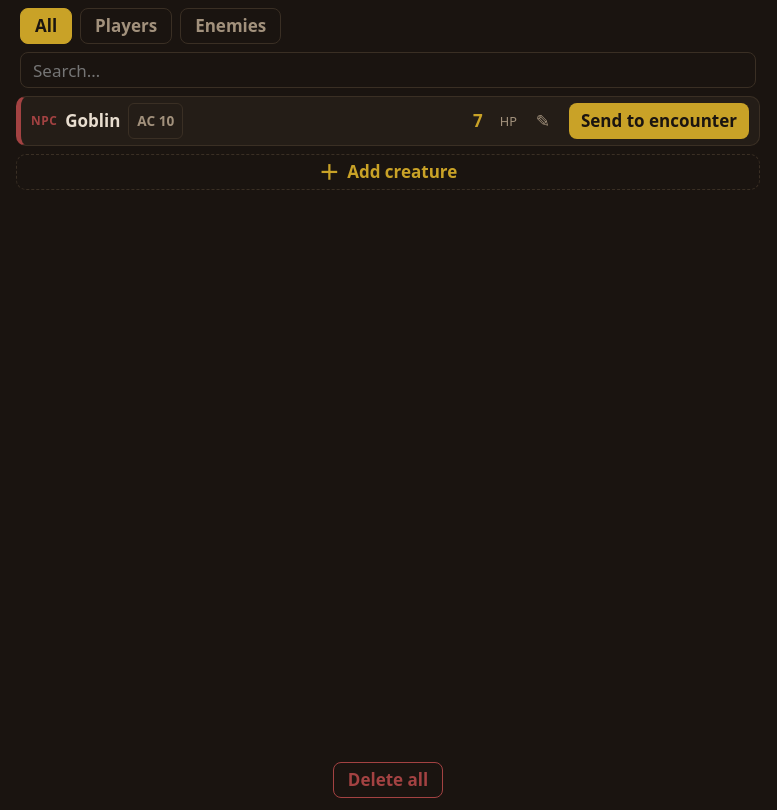
Test: CatalogPage search › says when nothing matches
The width and height of the screenshot is (777, 810).
In the search field labelled "Search…": (388, 70) [20, 52, 756, 88], type "dragon"
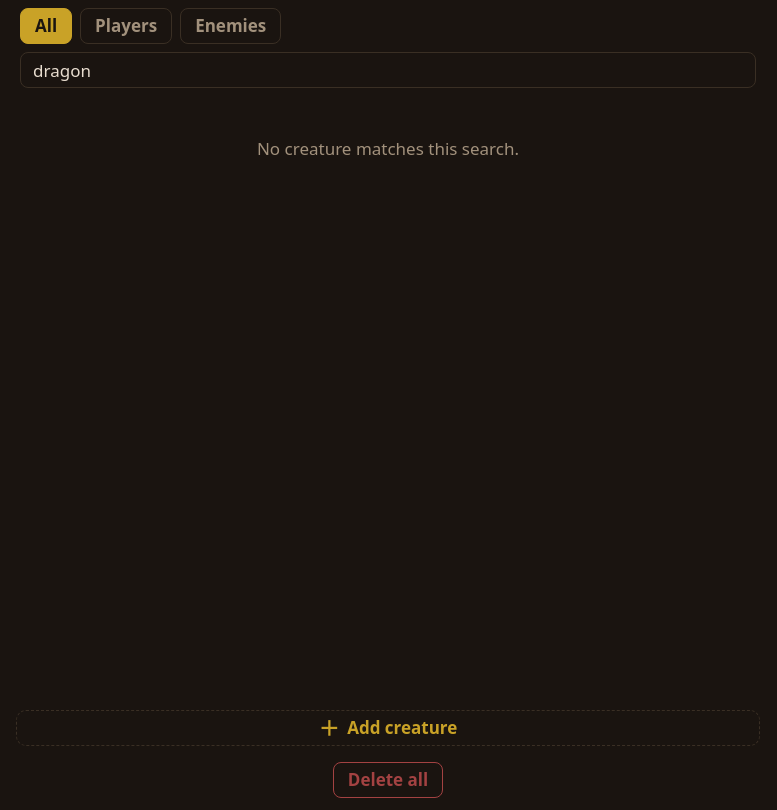
Now the text "No creature matches this search." is shown, box [257, 137, 519, 160]
